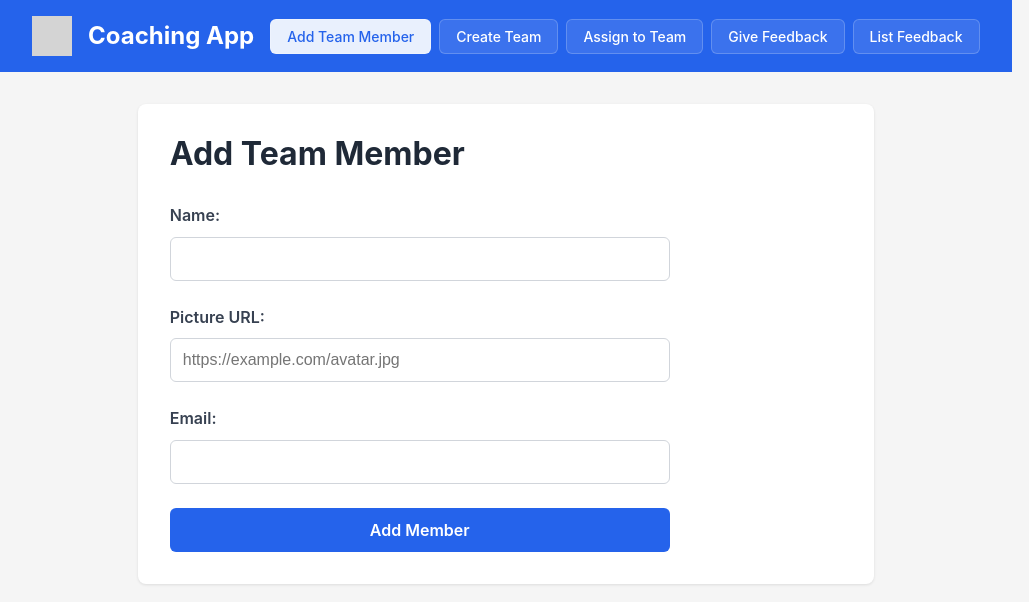
Test: App › should navigate to Create Team page when button is clicked
Click the button "Create Team" at x=499, y=36, box [439, 18, 558, 54]
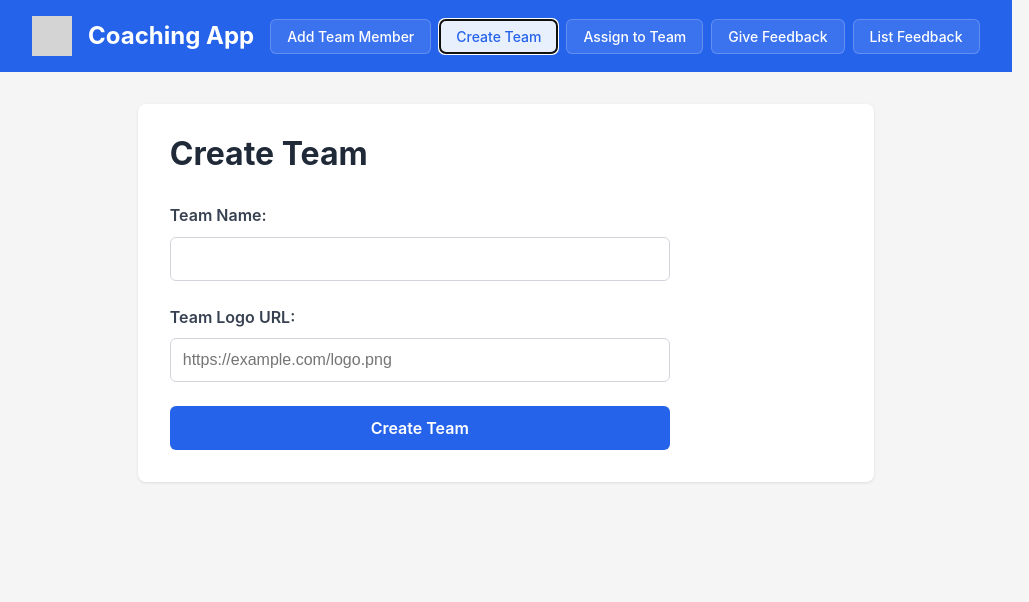
Expected: the field labelled "Team Name:" is shown, [170, 237, 670, 281]
Expected: the heading "Create Team" is shown, [170, 134, 368, 173]
